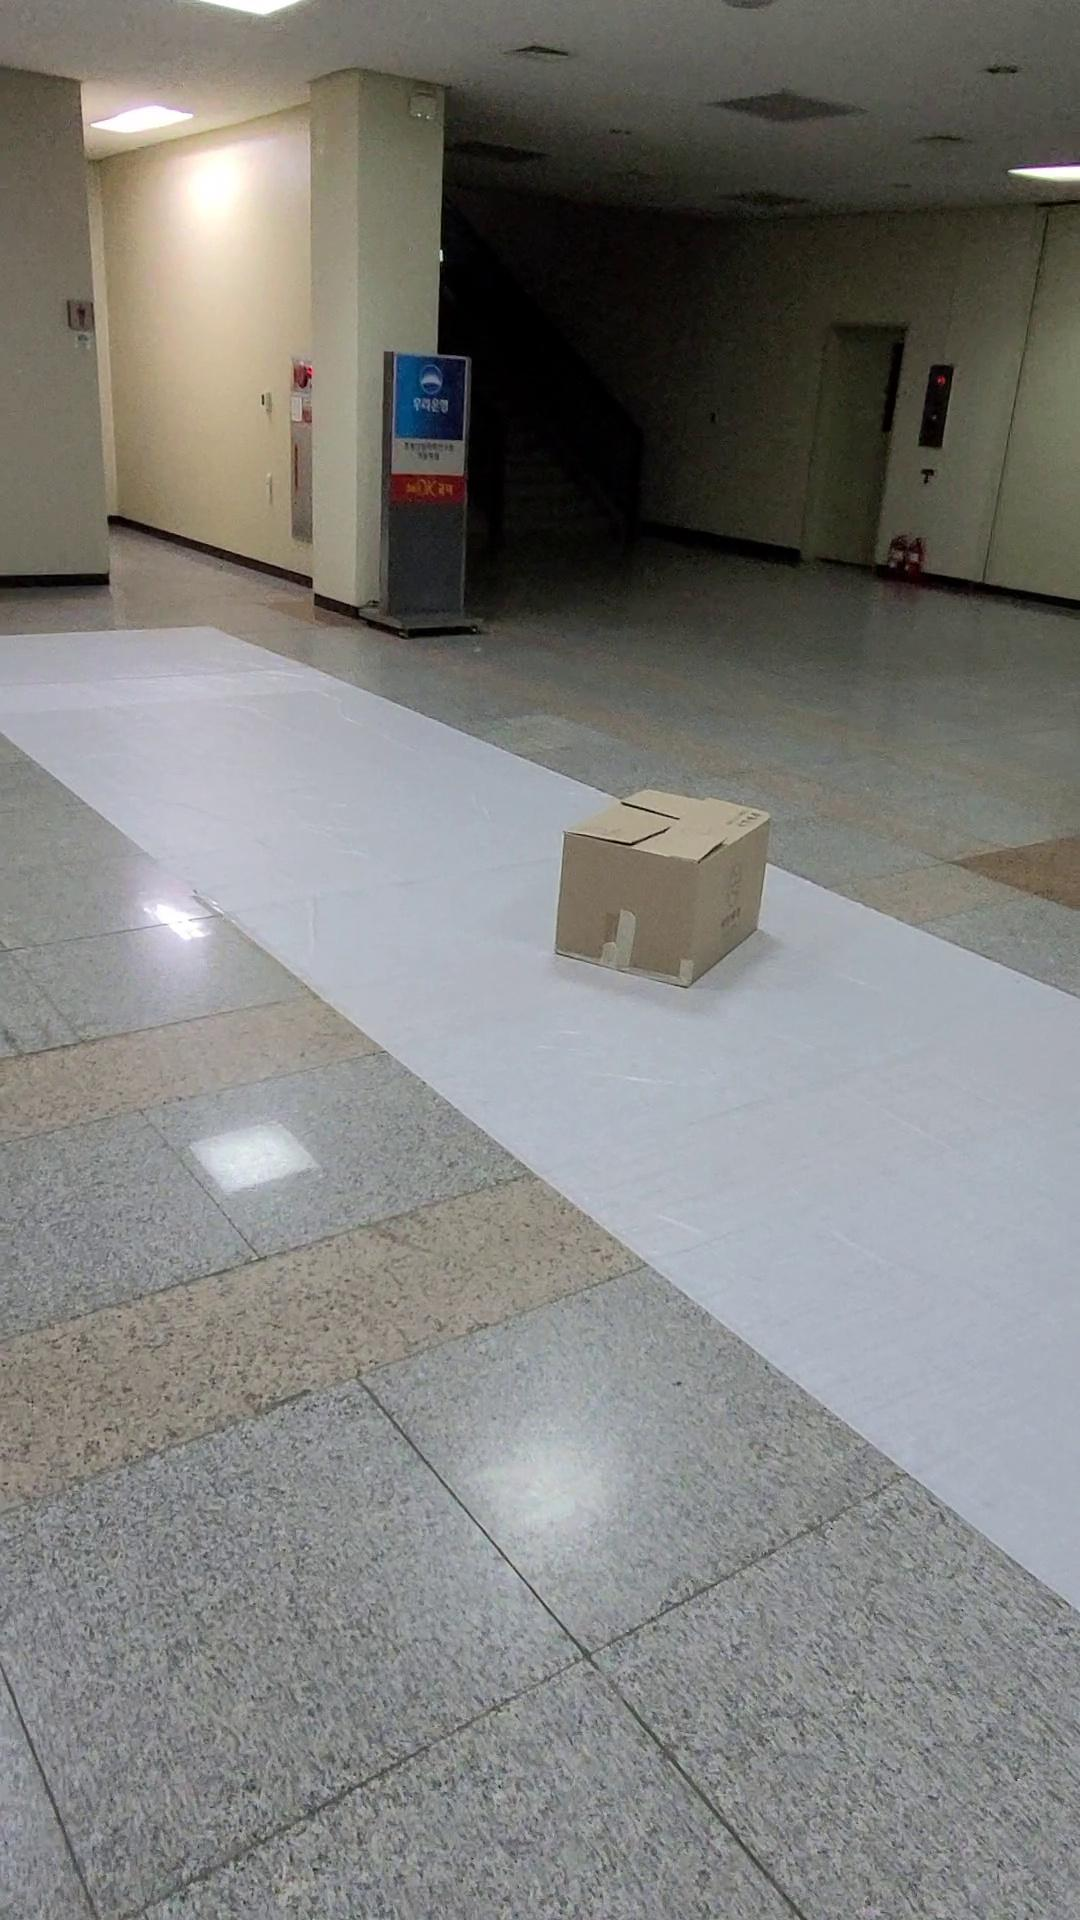Box: (456, 740, 876, 1022)
